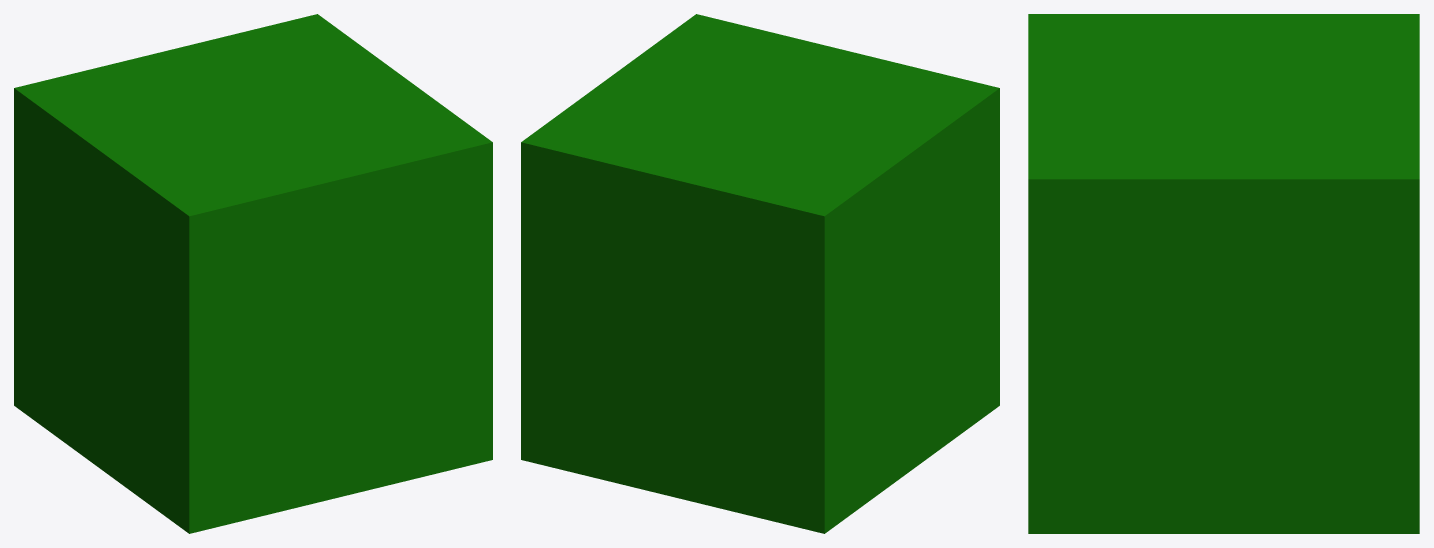
The model's file is Earth.obj.
3 renders of one model, left to right at view 1: azimuth 30°, elevation 25°; view 2: azimuth 150°, elevation 25°; view 3: azimuth 270°, elevation 25°, orthographic. The views are drawn at different scales.
Parts seen in each view (by area): view 1: Cube; view 2: Cube; view 3: Cube.
Boxes of the visible parts, <box> form: Cube: <box>14,14,492,533</box>; Cube: <box>521,14,999,533</box>; Cube: <box>1028,14,1419,533</box>.
Size of the model in its own units: 2 by 2 by 2.
